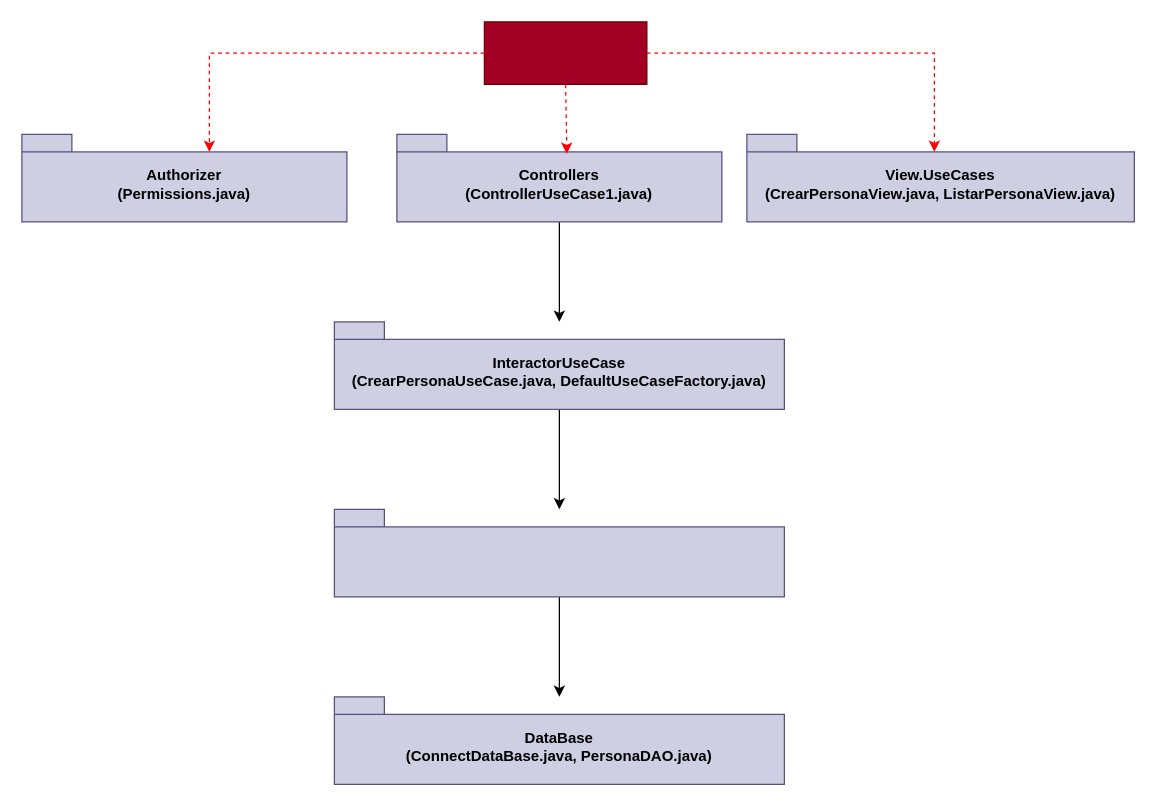
This 1156x806 diagram has some shape labels left out. Each missing label, with the centre of its shape:
"Entities (Permisos.java, Persona.java)" belongs at (x=558, y=552).
"InicioMain (InicioAplicacion.java)" belongs at (x=565, y=52).
